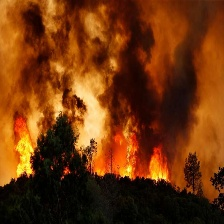fire: (91, 131, 169, 186), (8, 114, 41, 181)
smoke: (3, 2, 224, 147)
